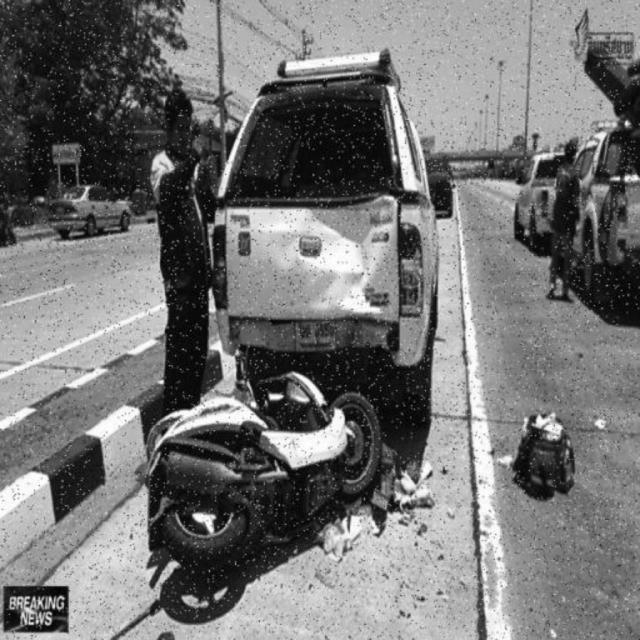accident: (160, 57, 440, 537)
person: (154, 84, 214, 394), (540, 143, 591, 305)
vehicle: (515, 145, 563, 243), (50, 184, 132, 238)
